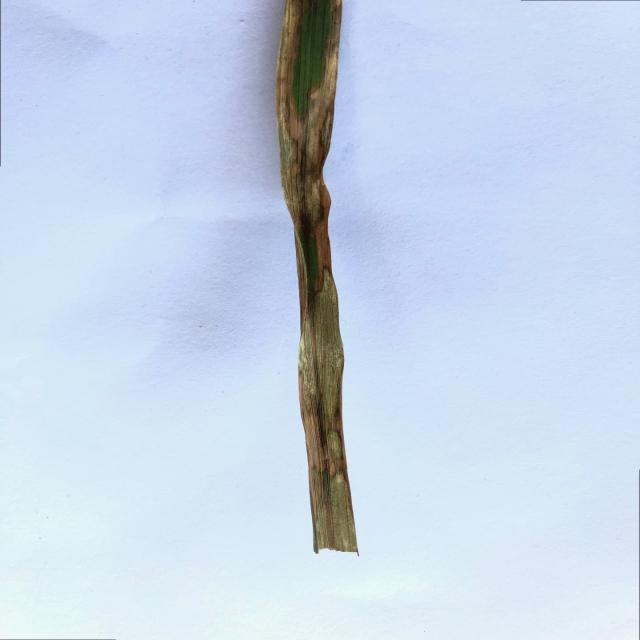Bacterial_Leaf_Blight: (280, 0, 359, 548)
